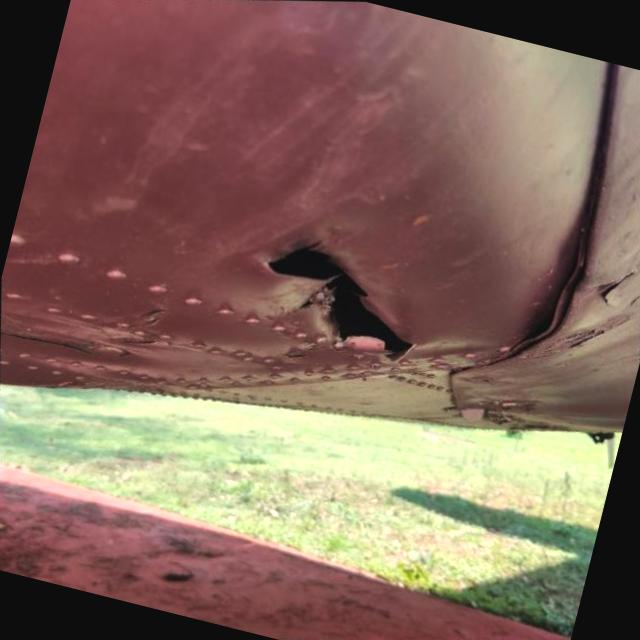dent: (484, 194, 626, 378)
